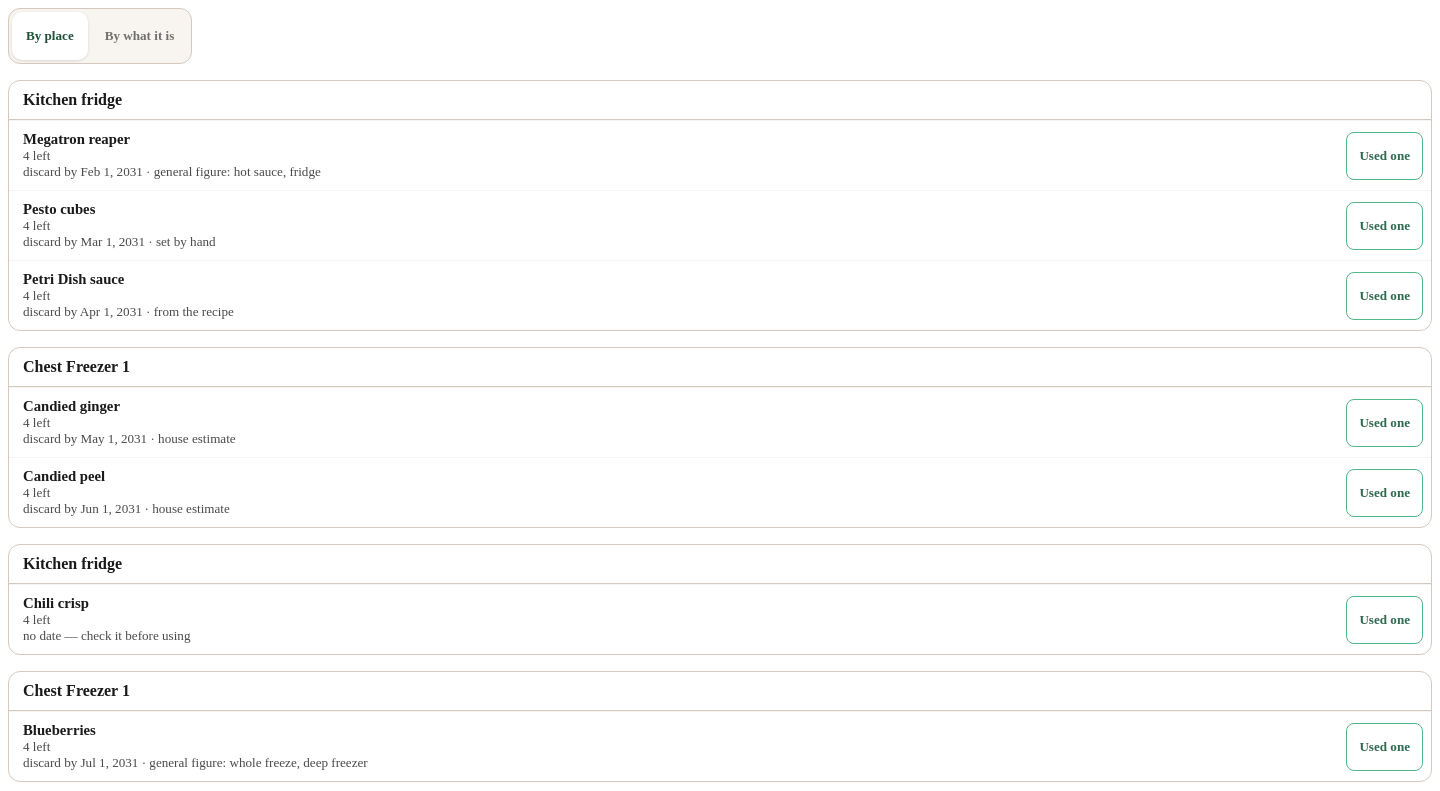
after the move — one line at the top of the Pantry, from the row the server answered › a move within one kind keeps the date and its basis words
Click the button with test id "pantry-row-open-put_up:jar-f" at (59, 730), box 17,716 -> 1338,777
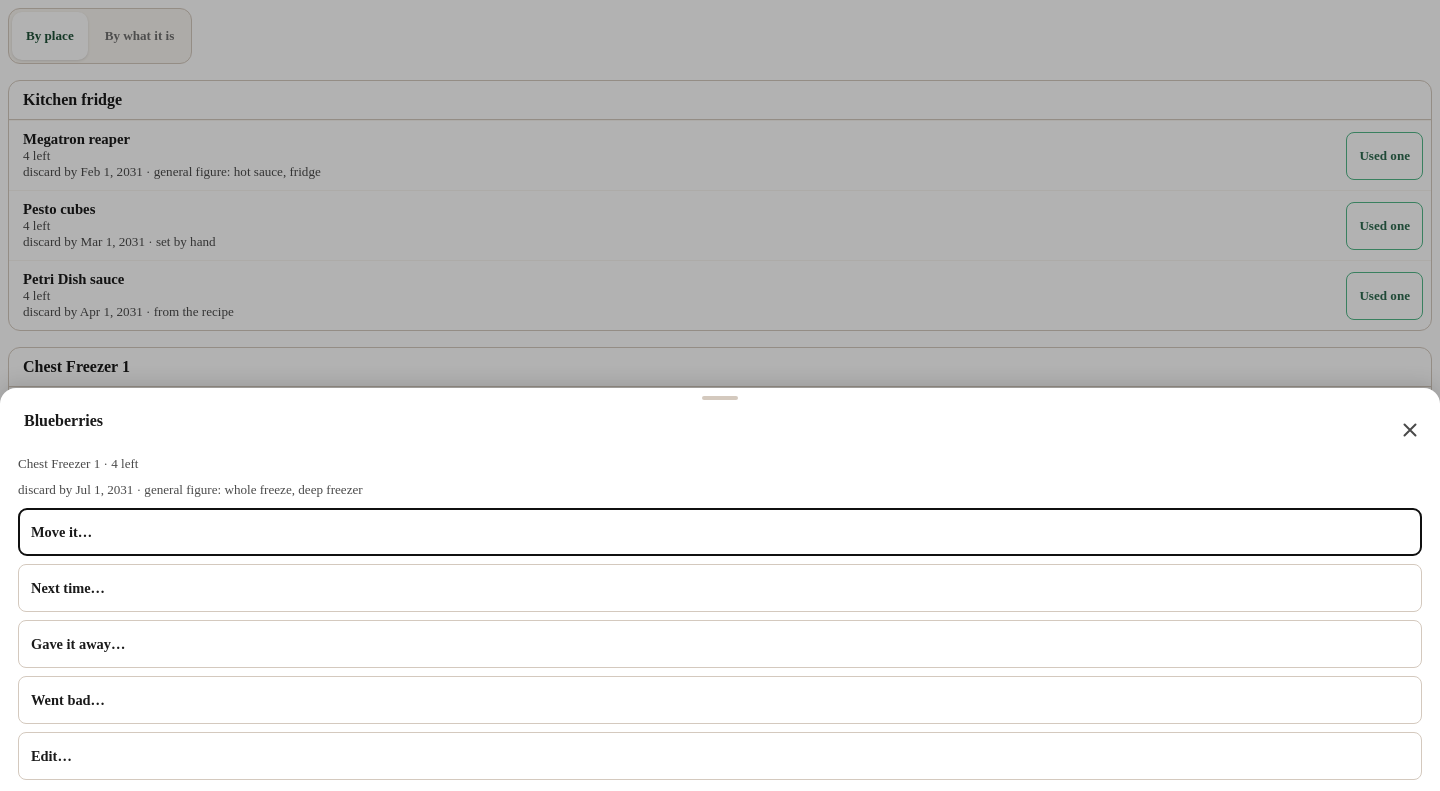
Click the button with test id "row-move" at (62, 532), box 18,508 -> 1422,556
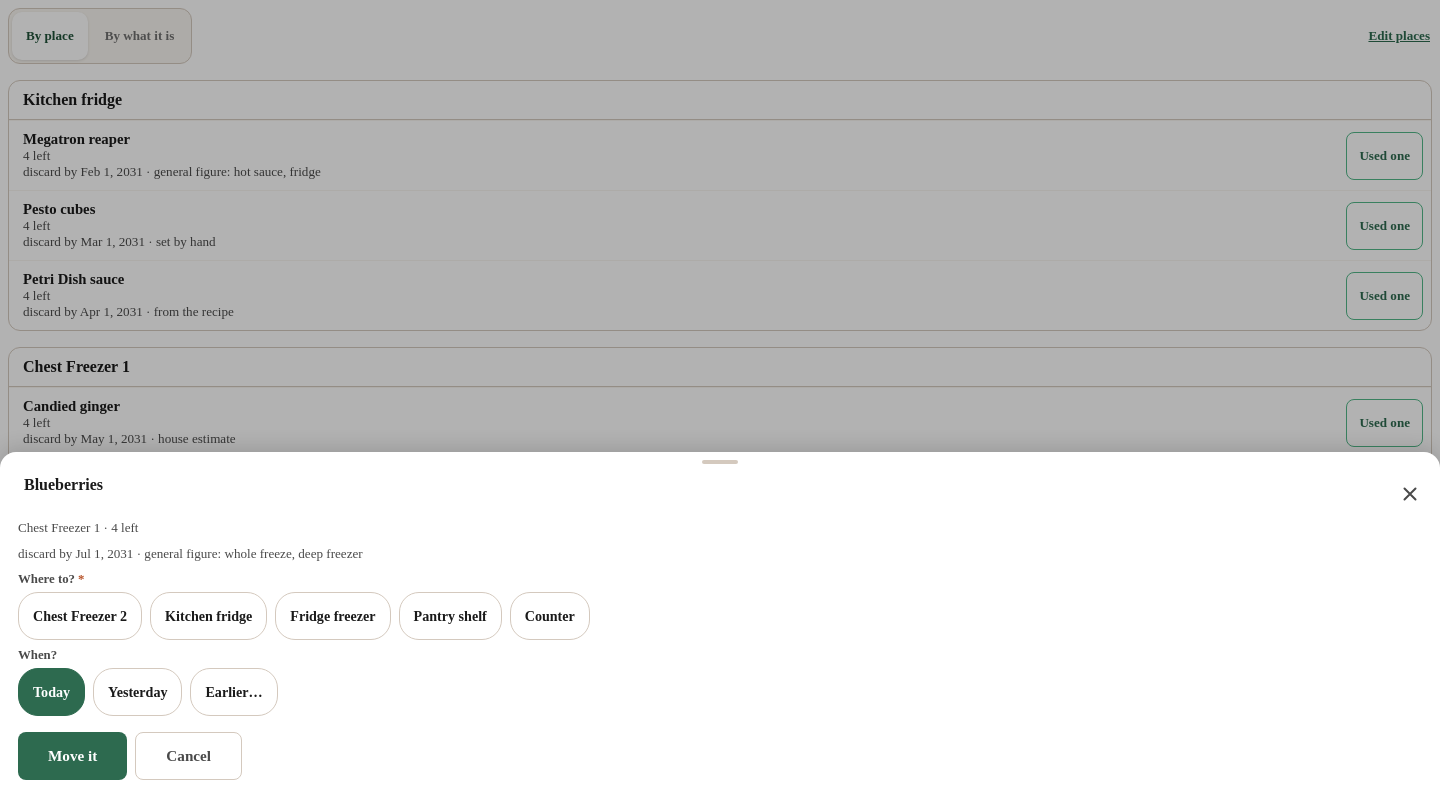
Click the radio button with test id "move-place-id:loc-2" at (80, 616), box 18,592 -> 142,640
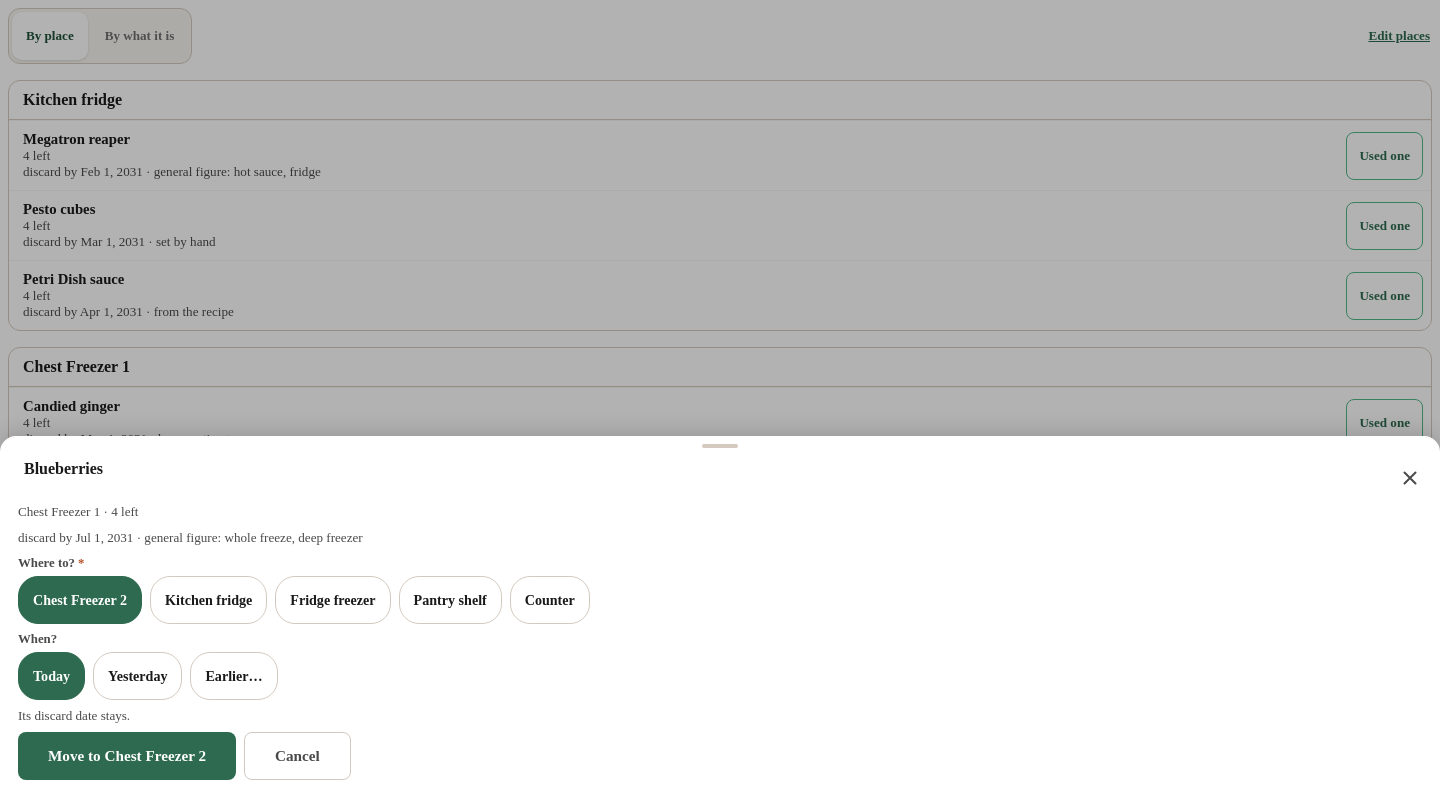
Click the button with test id "move-save" at (127, 756), box 18,732 -> 236,780
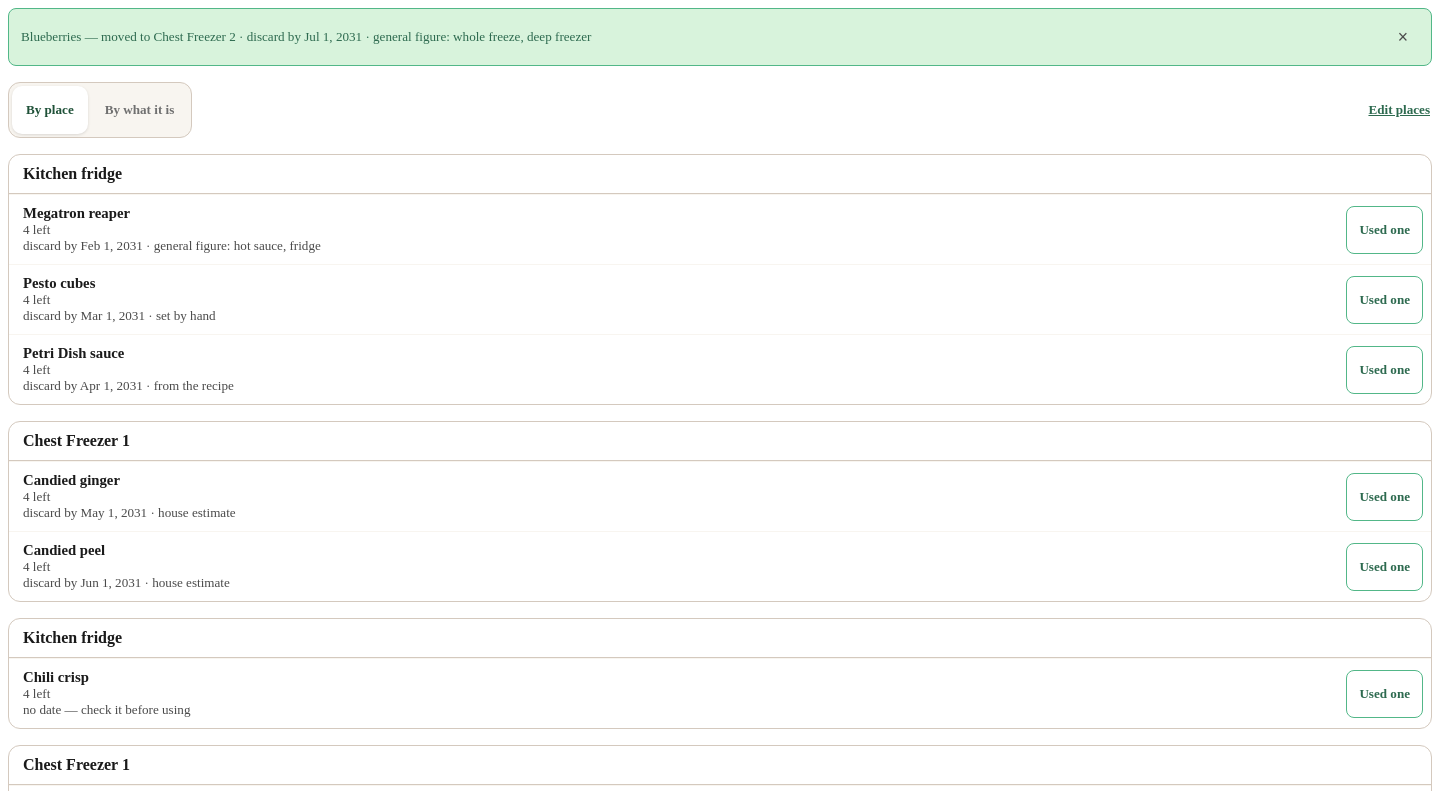
Now the text "Blueberries — moved to Chest Freezer 2 · discard by Jul 1, 2031 · general figure: whole freeze, deep freezer" is shown, box 21,29 -> 591,44
